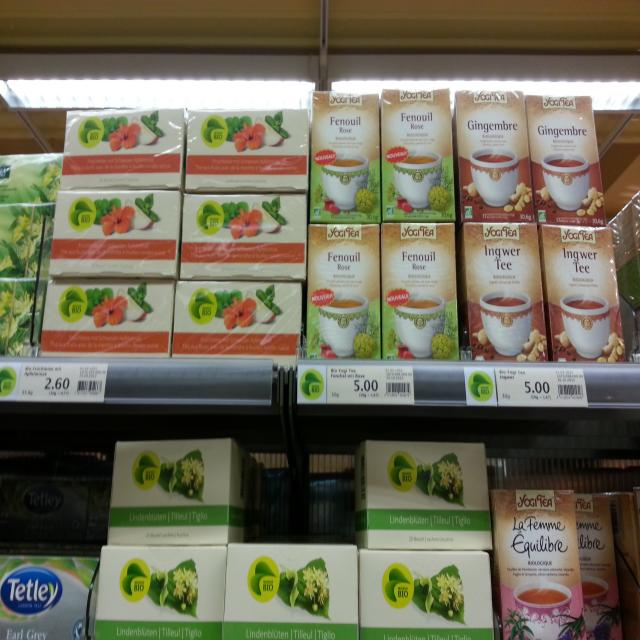Tea: (107, 438, 247, 545), (356, 441, 492, 550), (492, 489, 586, 640), (223, 542, 360, 640), (95, 544, 227, 640), (359, 548, 495, 640), (463, 222, 550, 361), (540, 224, 626, 363), (50, 190, 181, 276), (181, 194, 308, 282), (39, 279, 174, 360), (173, 279, 301, 361), (382, 223, 458, 361), (526, 95, 606, 226), (456, 92, 536, 222), (185, 110, 309, 192), (62, 106, 184, 189), (307, 224, 381, 360), (380, 90, 456, 221), (310, 90, 380, 224), (0, 555, 99, 640)
